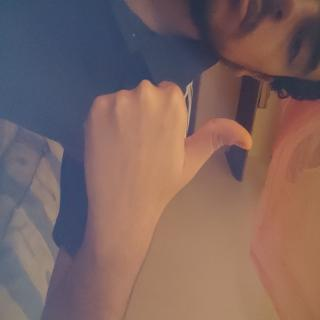ALIF: (52, 83, 186, 320)
